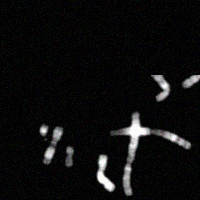chromosome: (111, 126, 191, 149), (122, 112, 139, 195), (42, 125, 62, 163), (96, 154, 115, 191), (150, 73, 169, 101), (64, 147, 73, 166), (38, 124, 47, 135)
